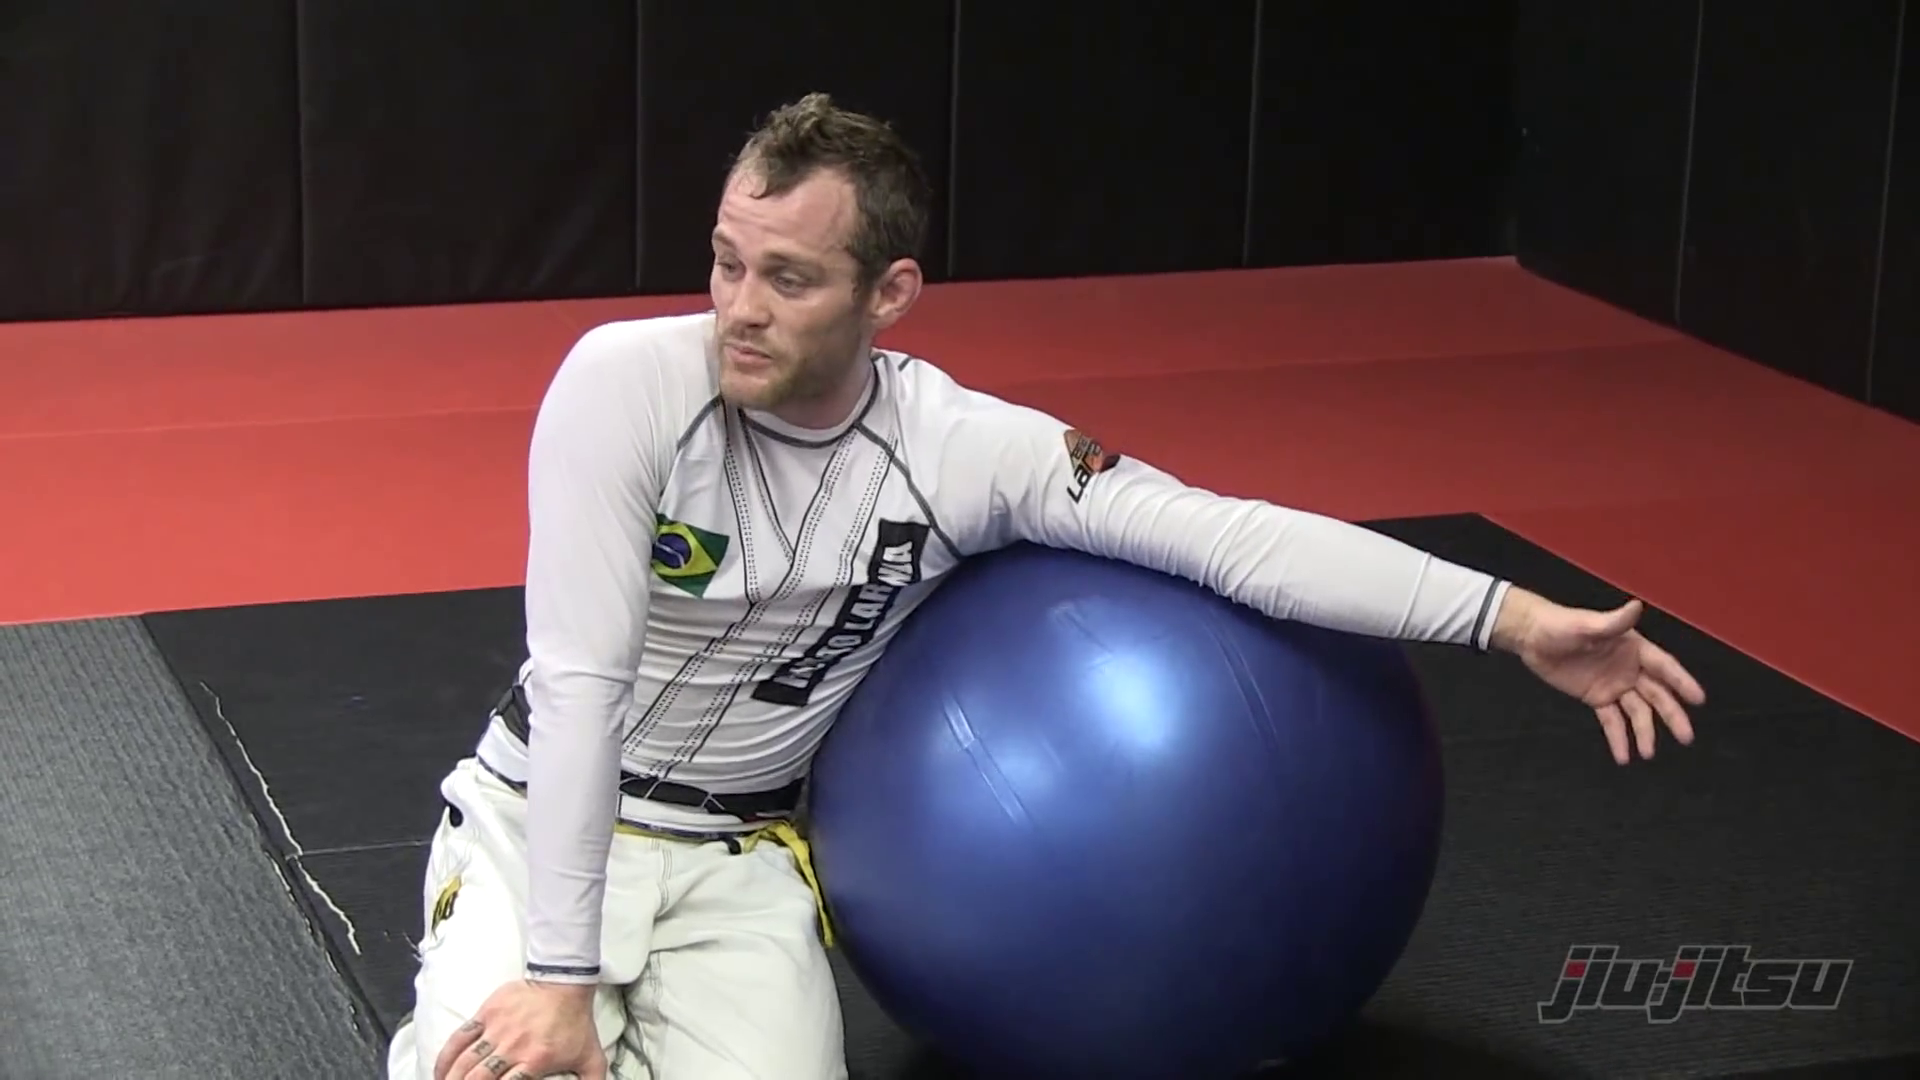yogaball: (811, 520, 1482, 1080)
